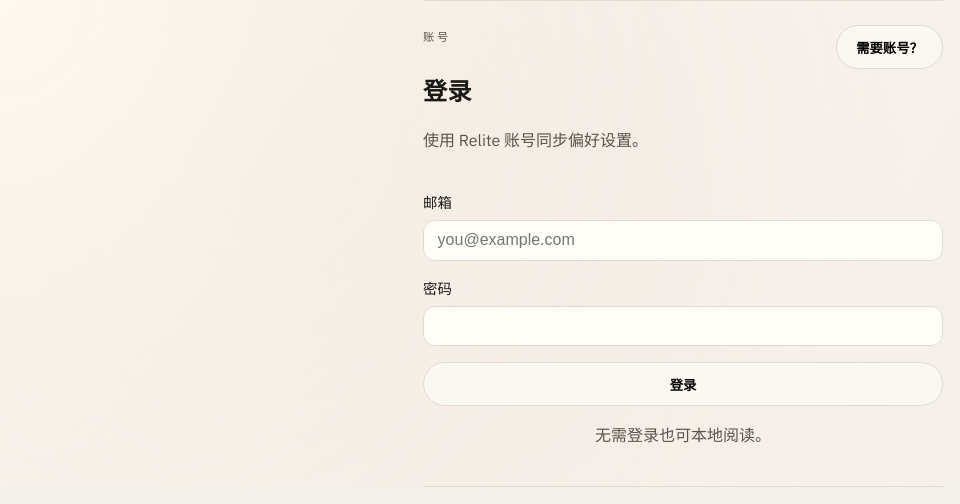
Test: toggles to register
Click the button "需要账号？". click: x=890, y=47
box: [836,25,943,69]
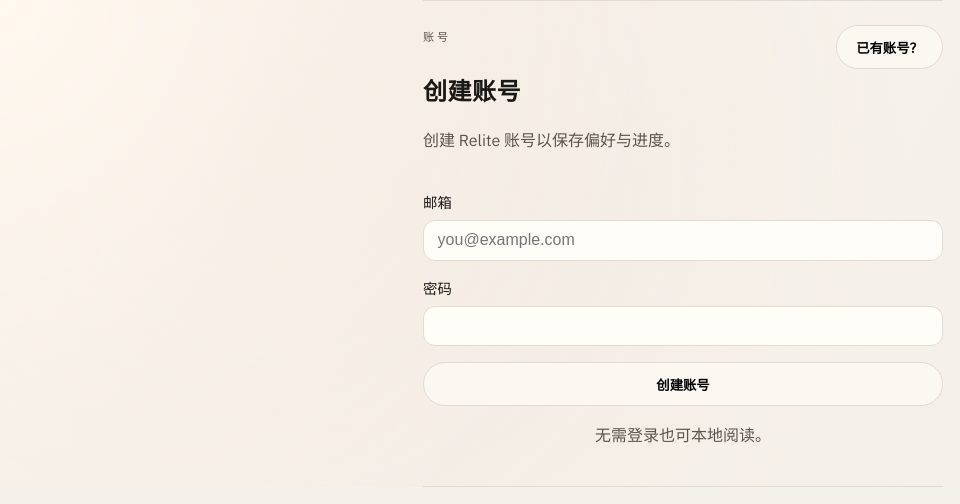
Check: the heading "创建账号" is shown, box [423,77,521,106]
